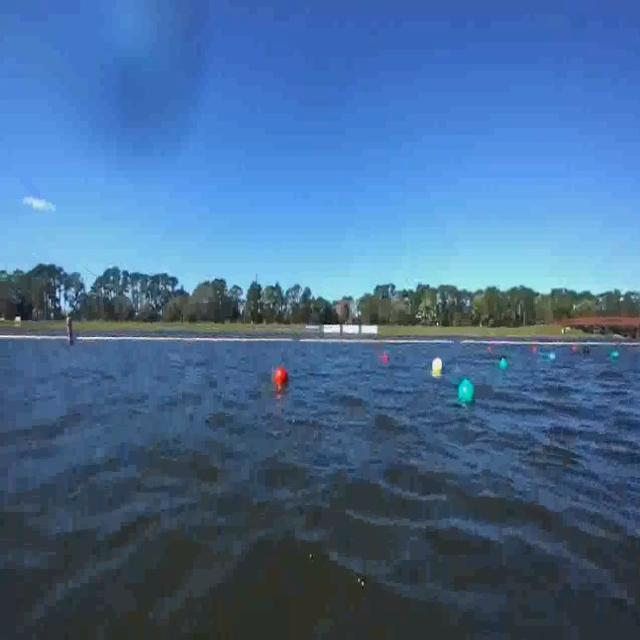green-buoy: (460, 377, 478, 402)
red-buoy: (277, 368, 289, 384)
